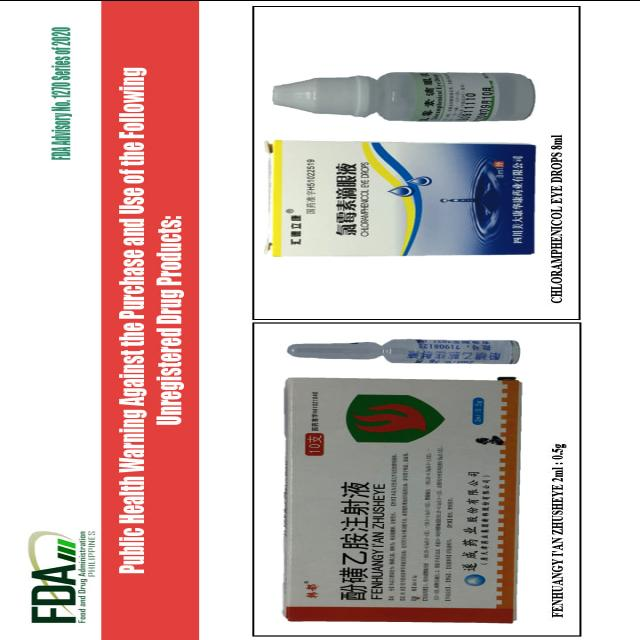counterfeit: (274, 380, 528, 620), (263, 139, 537, 259), (263, 68, 548, 120), (272, 336, 538, 364)
